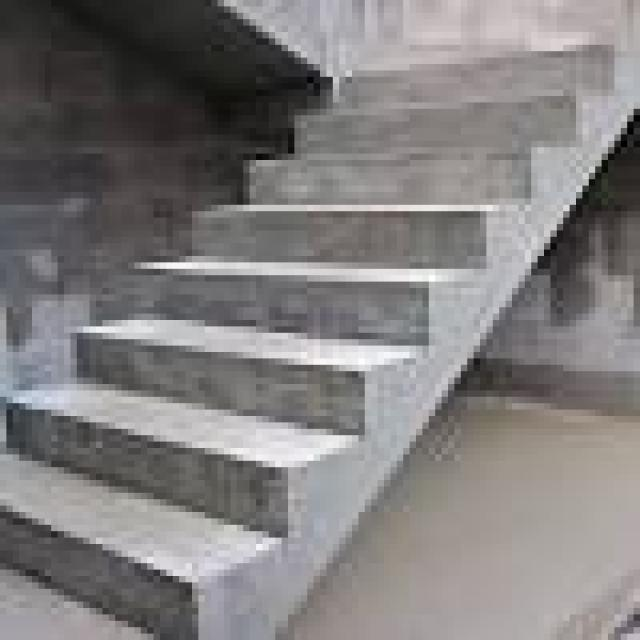upstair: (1, 46, 628, 635)
